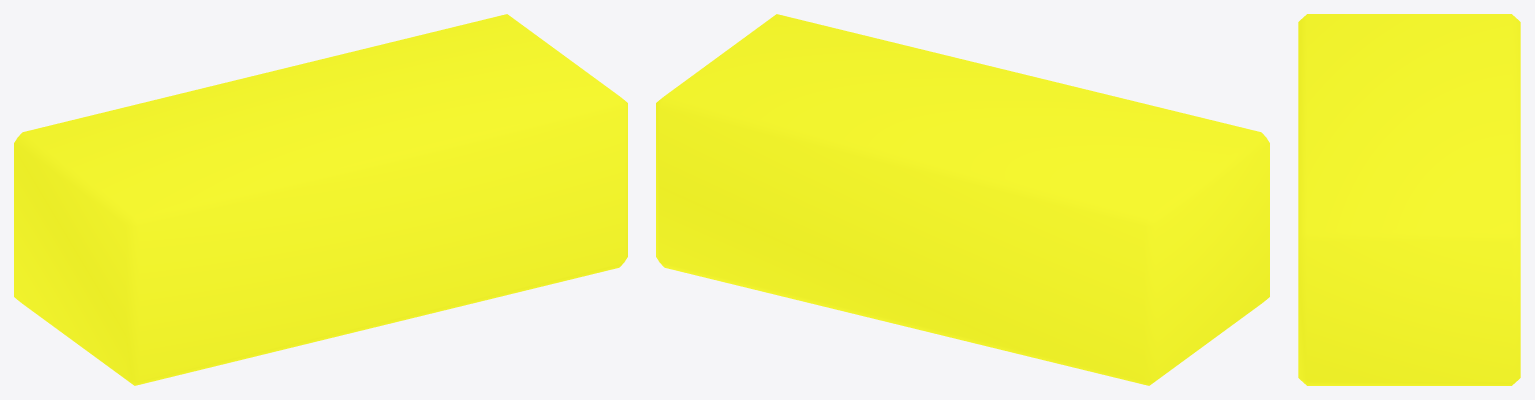
File: Mantequilla.glb
3 renders of one model, left to right at view 1: azimuth 30°, elevation 25°; view 2: azimuth 150°, elevation 25°; view 3: azimuth 270°, elevation 25°, orthographic. The views are drawn at different scales.
Parts seen in each view (by area): view 1: Cube; view 2: Cube; view 3: Cube.
Part boxes in pixels (x1,y1,x2,y2): Cube: [14, 14, 627, 385]; Cube: [656, 14, 1269, 385]; Cube: [1298, 14, 1520, 385].
Size of the model in its own units: 9.4 by 3.07 by 3.96.
